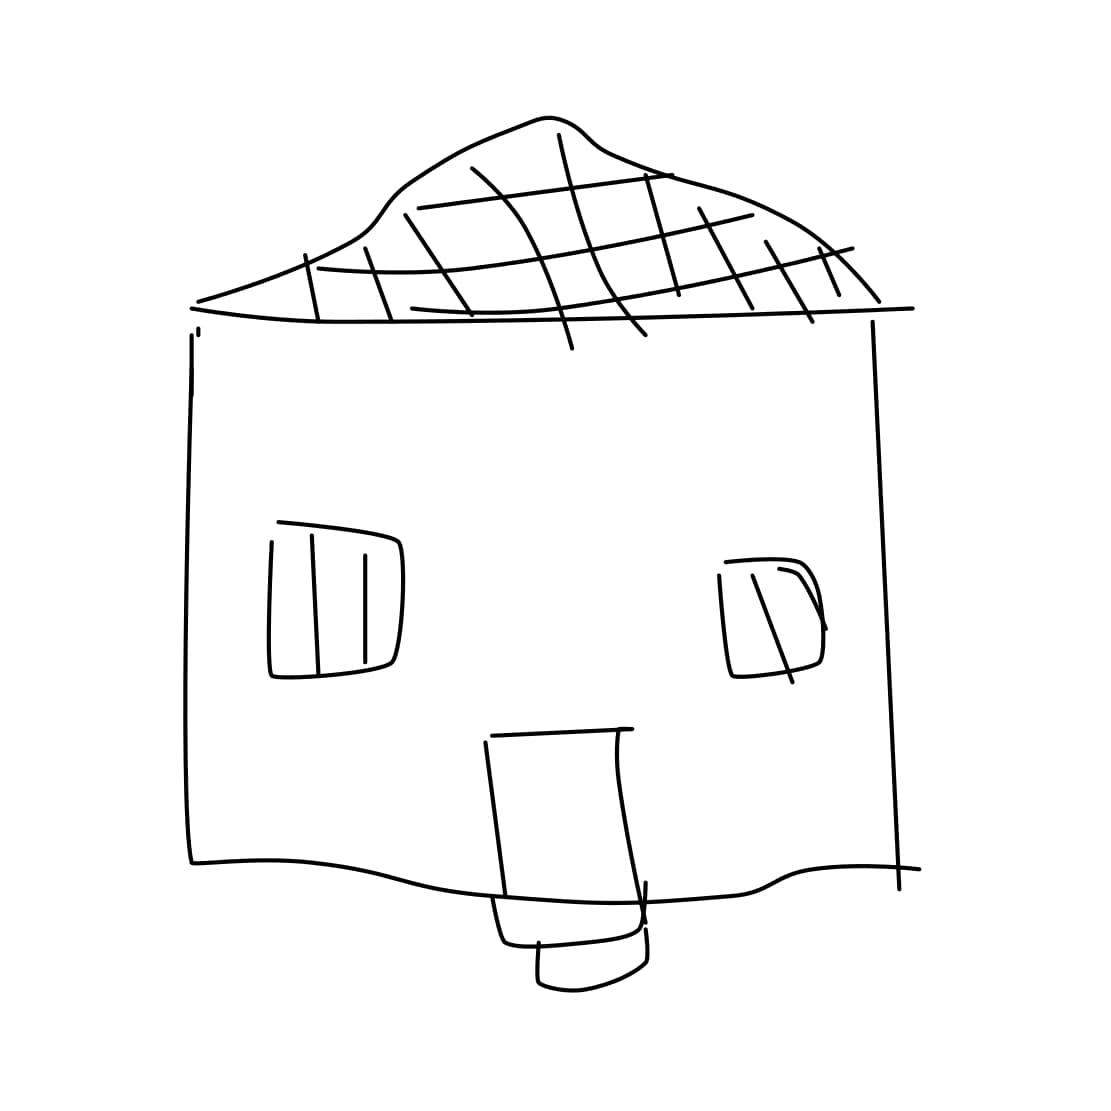House: (118, 95, 941, 920)
